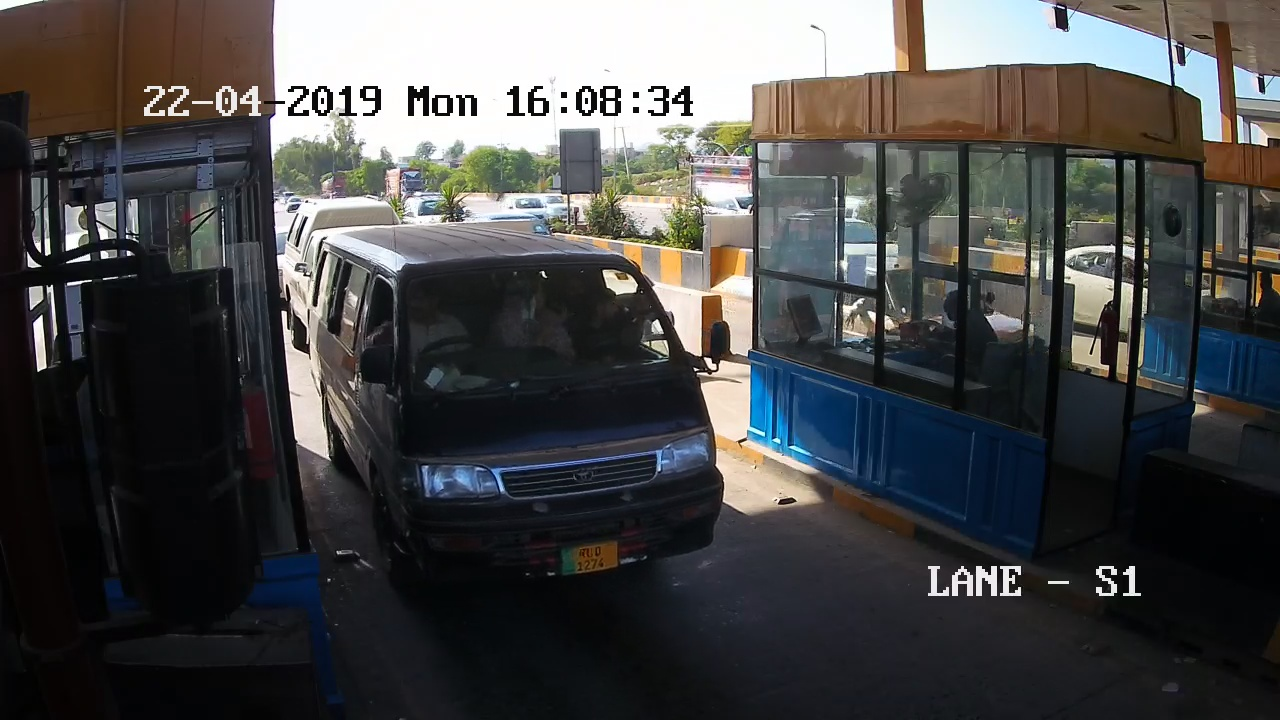Number Plate (Car): (557, 543, 619, 572)
